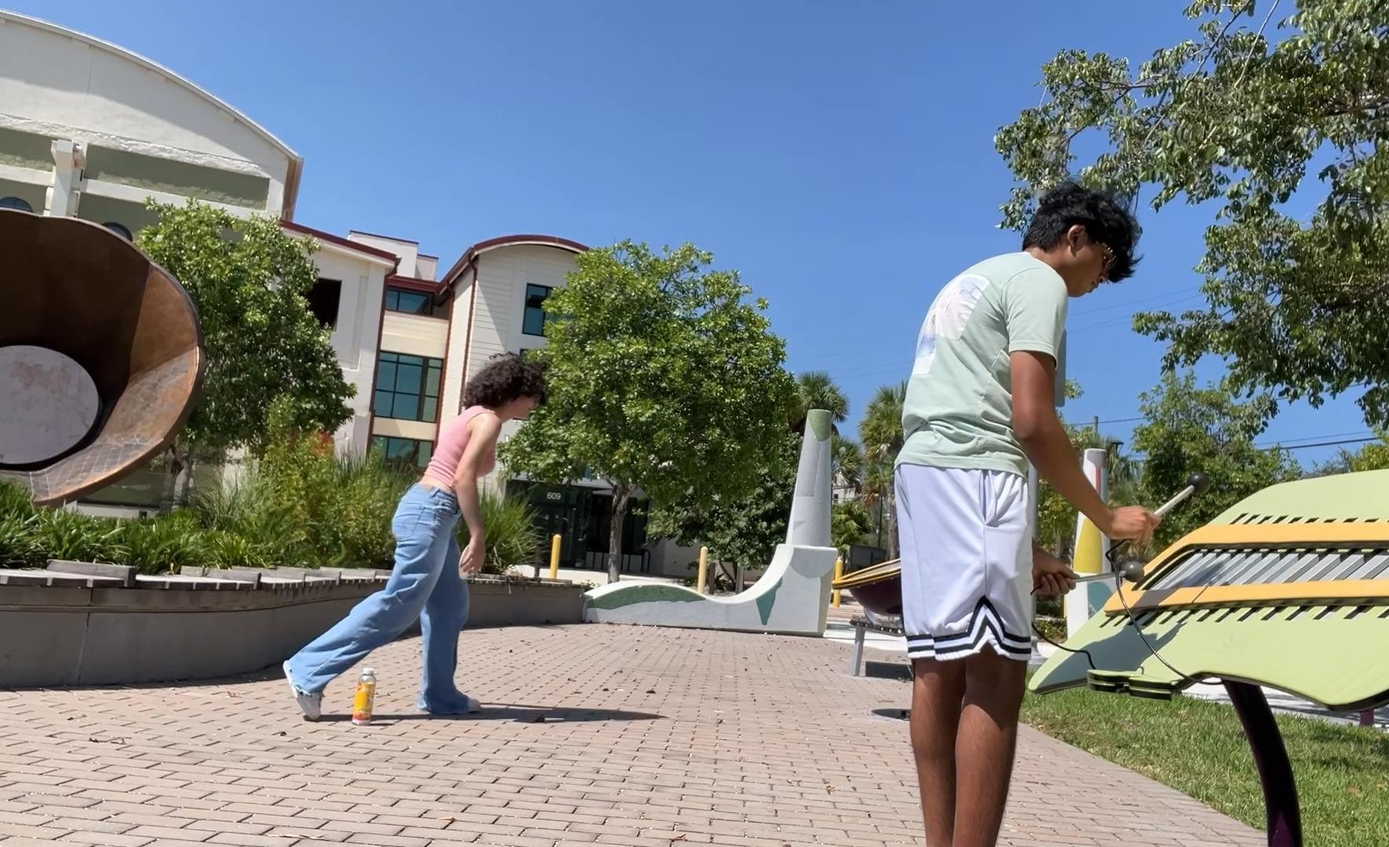Trash: (344, 665, 392, 738)
